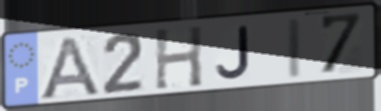2: (100, 30, 148, 96)
7: (318, 11, 365, 78)
A: (36, 34, 103, 102)
H: (153, 24, 205, 92)
I: (285, 15, 304, 81)
J: (213, 24, 252, 81)
